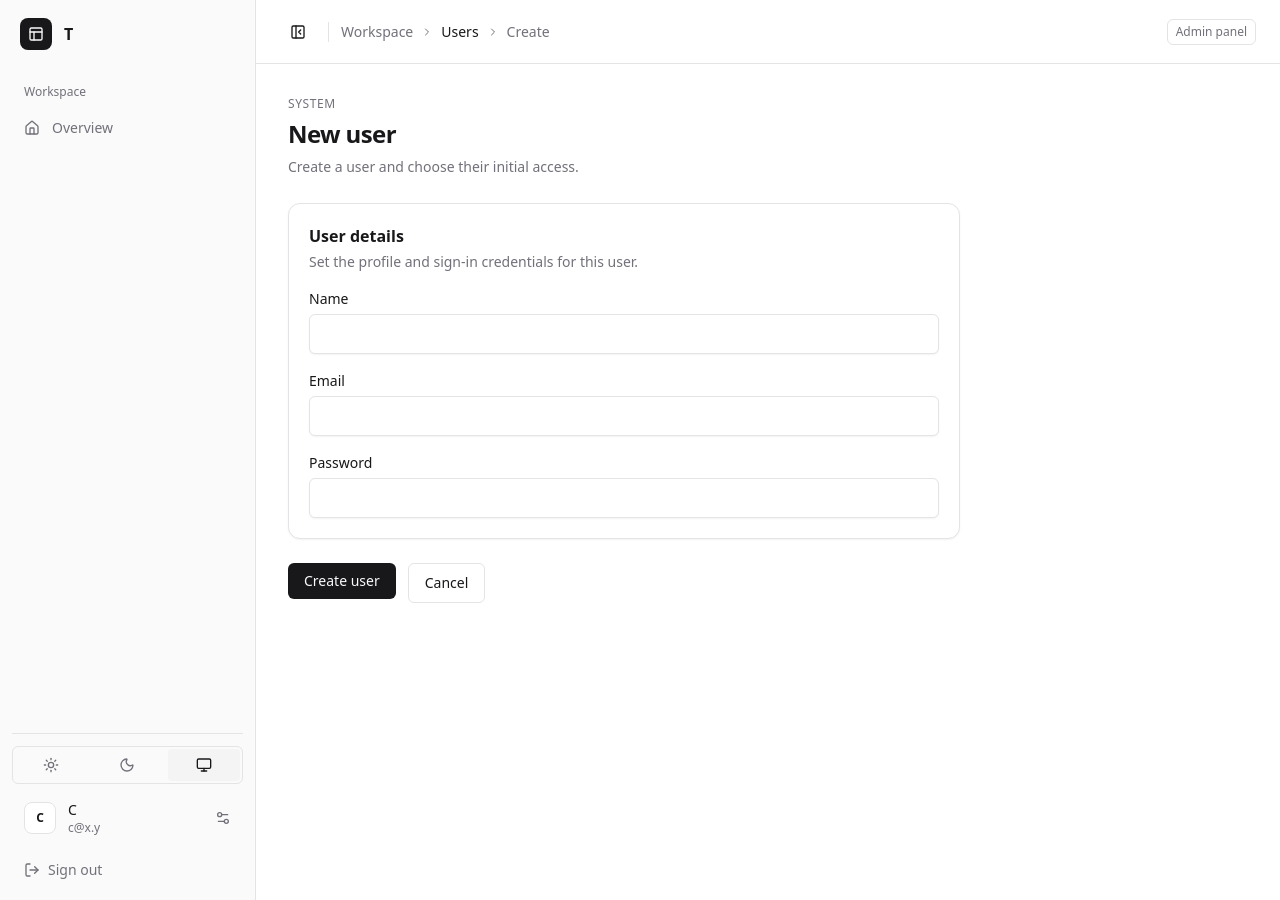
Test: a creator who may not view users stays on the form after creating one
This screenshot has width=1280, height=900.
In the field labelled "Name": [624, 334] box [309,314,939,354], type "New"
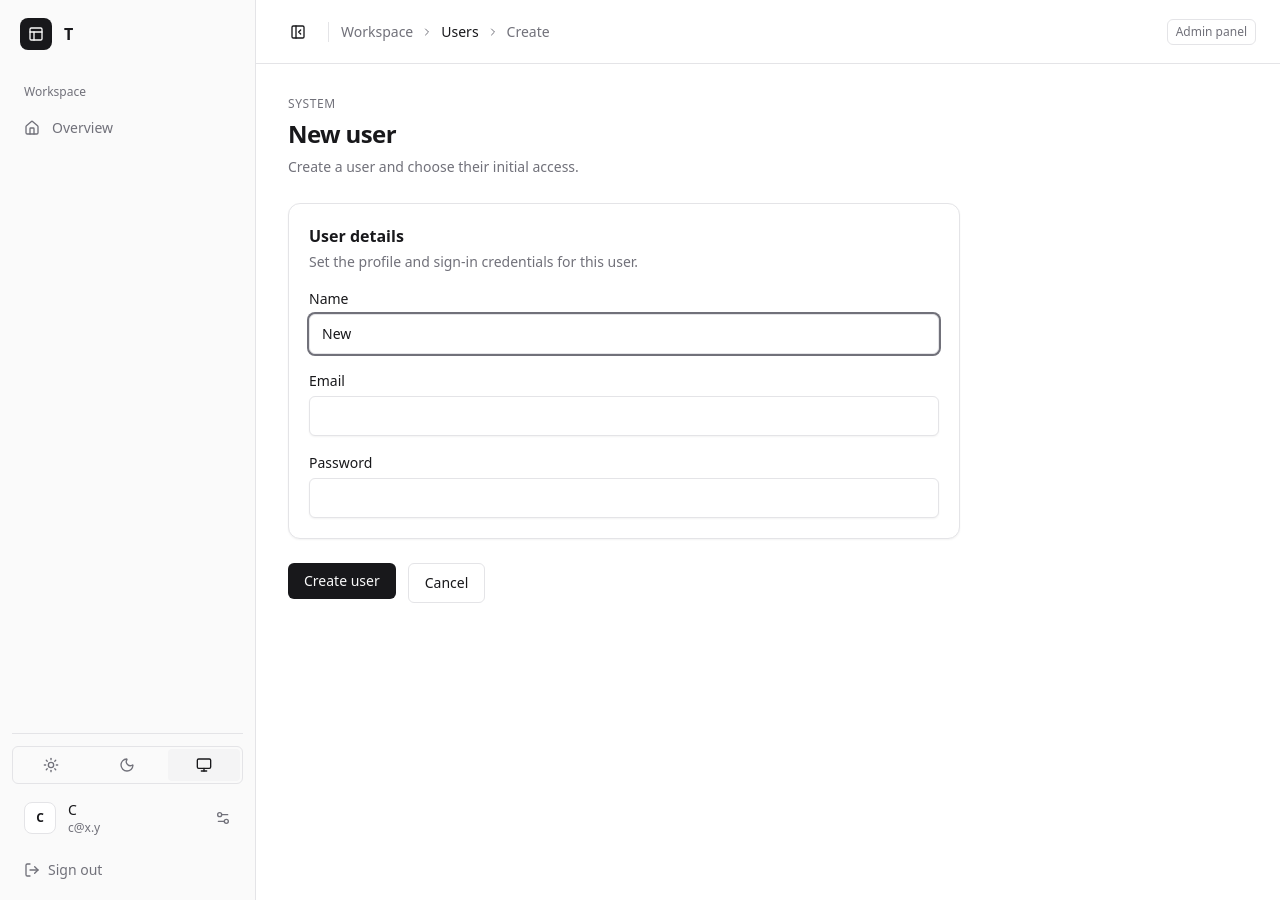
In the field labelled "Email": [624, 416] box [309,396,939,436], type "new@x.y"
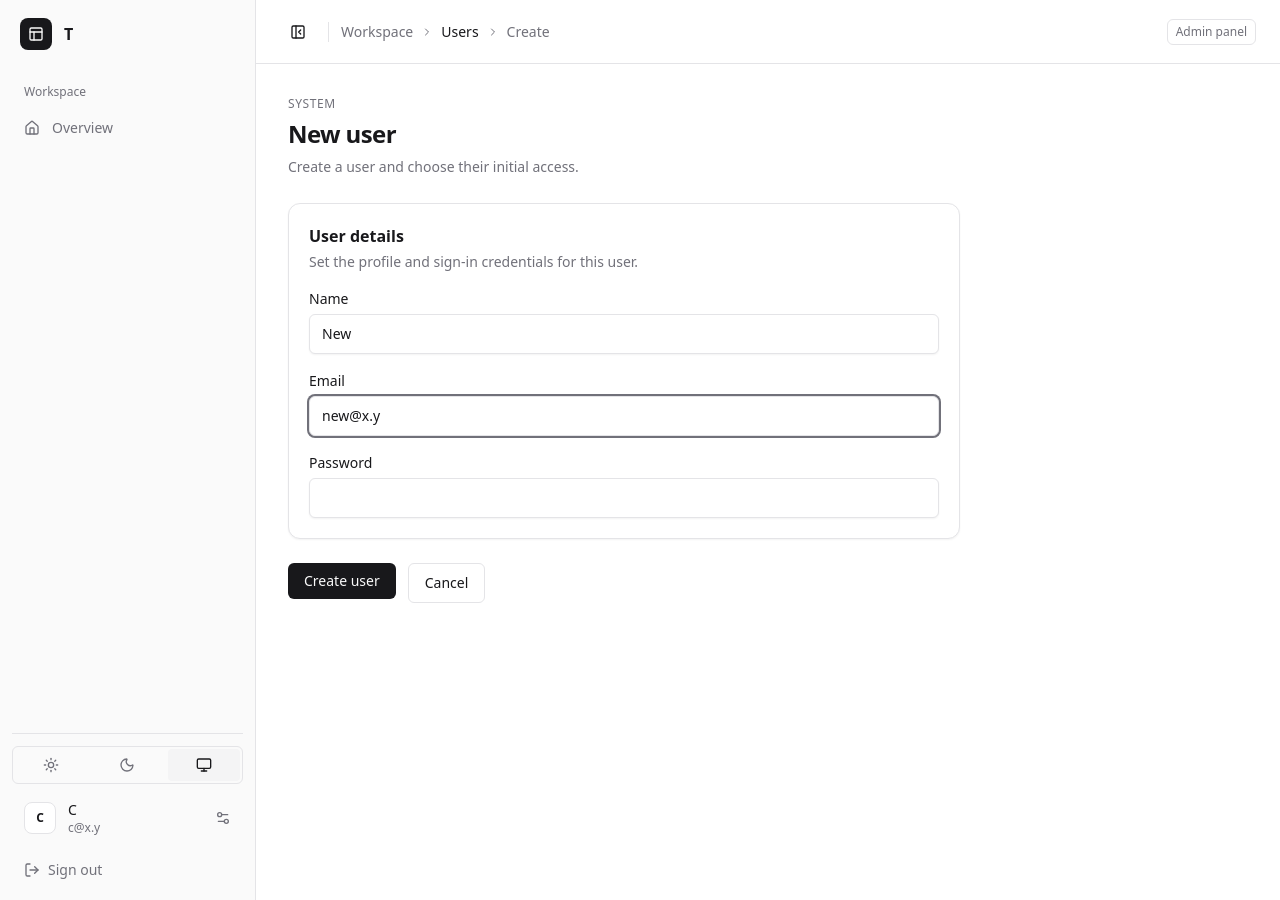
In the password field labelled "Password": [624, 498] box [309,478,939,518], type "long enough password"
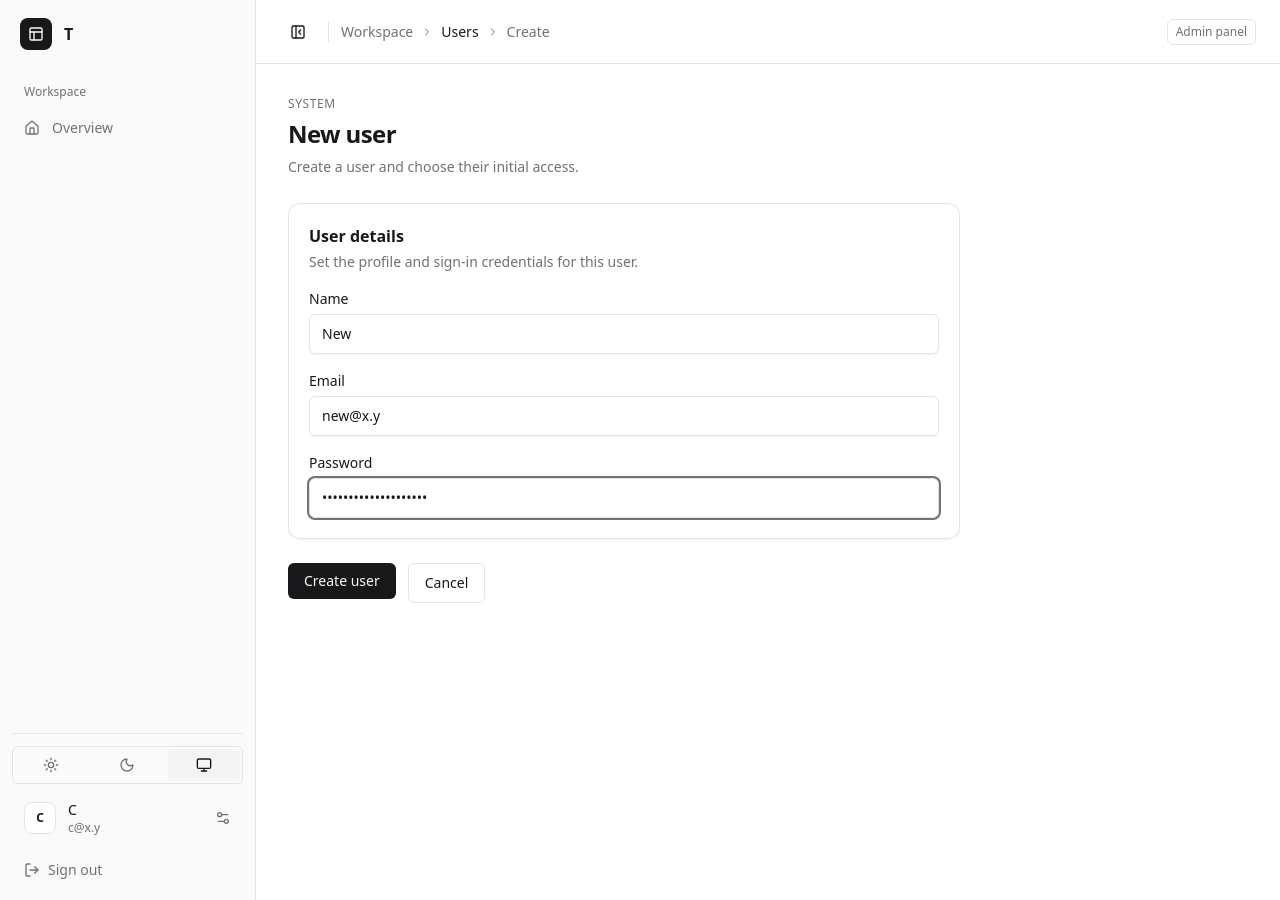
Click the button "Create user": [342, 581] box [288,563,396,599]
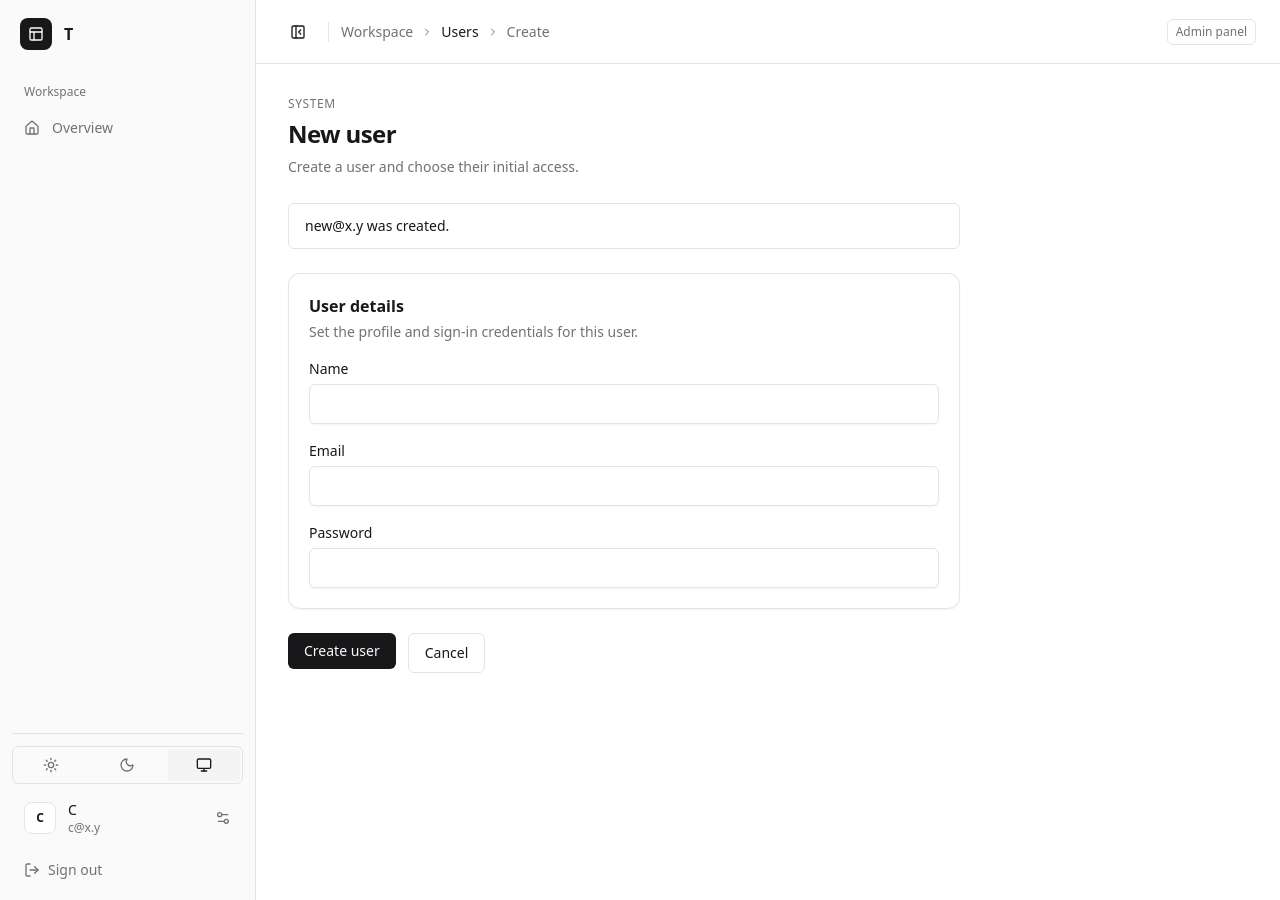
Expected: the text "new@x.y was created." is shown, [288,203,960,249]
Expected: the field labelled "Email" is empty, [309,466,939,506]
